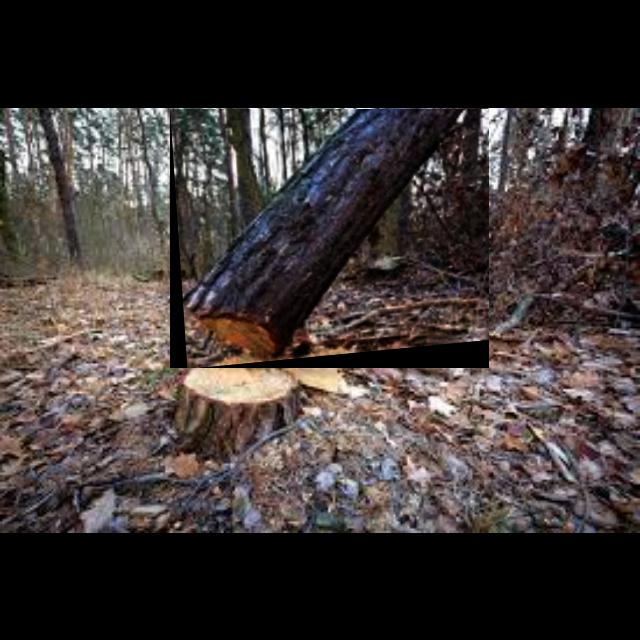Fallen Tree: (170, 109, 490, 369)
